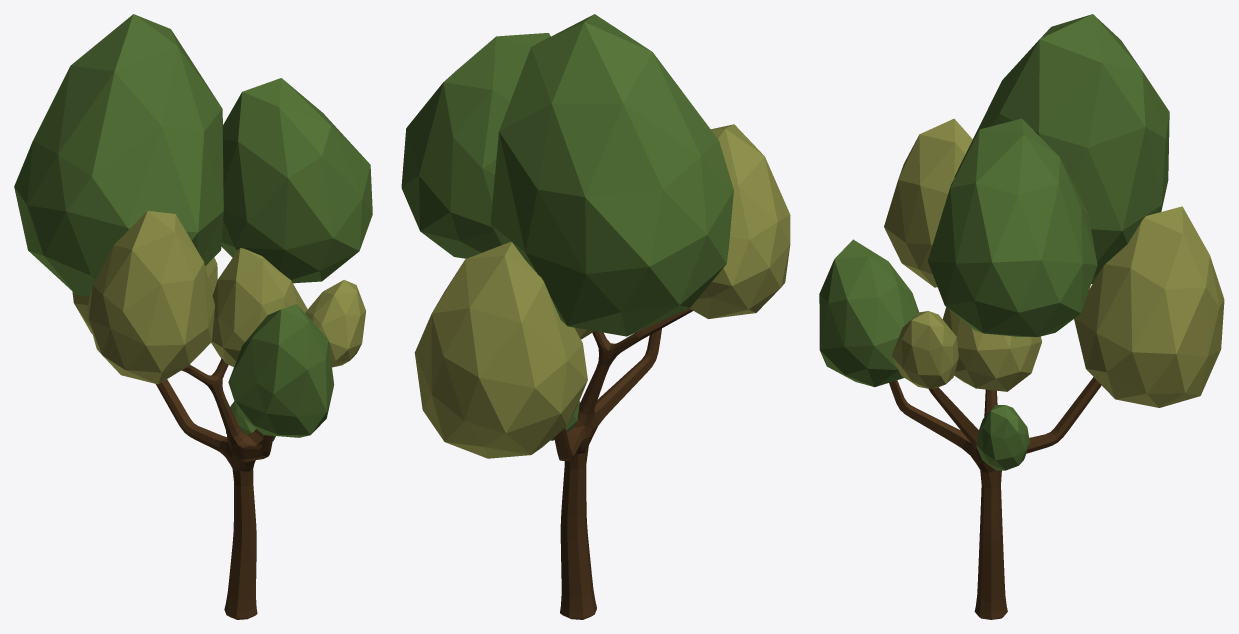
Rendered from dub.fbx.
3 renders of one model, left to right at view 1: azimuth 30°, elevation 25°; view 2: azimuth 150°, elevation 25°; view 3: azimuth 270°, elevation 25°, orthographic. The views are drawn at different scales.
Parts seen in each view (by area): view 1: Icosphere.025, Icosphere.019, Icosphere.024, Icosphere.022, Icosphere.017, Icosphere.023, Icosphere.021, Icosphere.018; view 2: Icosphere.025, Icosphere.018, Icosphere.019, Icosphere.024, Icosphere.017; view 3: Icosphere.019, Icosphere.025, Icosphere.018, Icosphere.022, Icosphere.017, Icosphere.024, Icosphere.023, Icosphere.021, Icosphere.020.
Part boxes in pixels (x1,y1,x2,y2): Icosphere.025: (14, 14, 223, 297); Icosphere.019: (221, 78, 372, 283); Icosphere.024: (87, 211, 214, 384); Icosphere.022: (228, 304, 334, 437); Icosphere.017: (156, 358, 273, 619); Icosphere.023: (211, 248, 307, 366); Icosphere.021: (305, 280, 365, 367); Icosphere.018: (72, 257, 217, 333); Icosphere.025: (490, 14, 733, 336); Icosphere.018: (414, 242, 587, 458); Icosphere.019: (401, 33, 550, 258); Icosphere.024: (689, 124, 790, 318); Icosphere.017: (554, 308, 692, 619); Icosphere.019: (927, 118, 1097, 336); Icosphere.025: (954, 14, 1169, 283); Icosphere.018: (1074, 206, 1224, 407); Icosphere.022: (819, 239, 919, 387); Icosphere.017: (889, 377, 1101, 619); Icosphere.024: (884, 118, 972, 287); Icosphere.023: (942, 307, 1041, 391); Icosphere.021: (891, 311, 958, 388); Icosphere.020: (976, 405, 1029, 470).
Bounding box in the file's own units: 768 × 1413 × 904.
